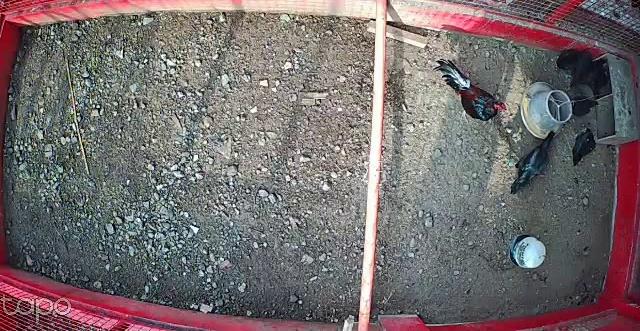Chicken: (505, 130, 557, 197), (569, 122, 601, 167), (554, 46, 593, 73), (566, 95, 601, 119)
Feeder: (520, 78, 574, 142)
Rooster: (432, 57, 509, 122)
